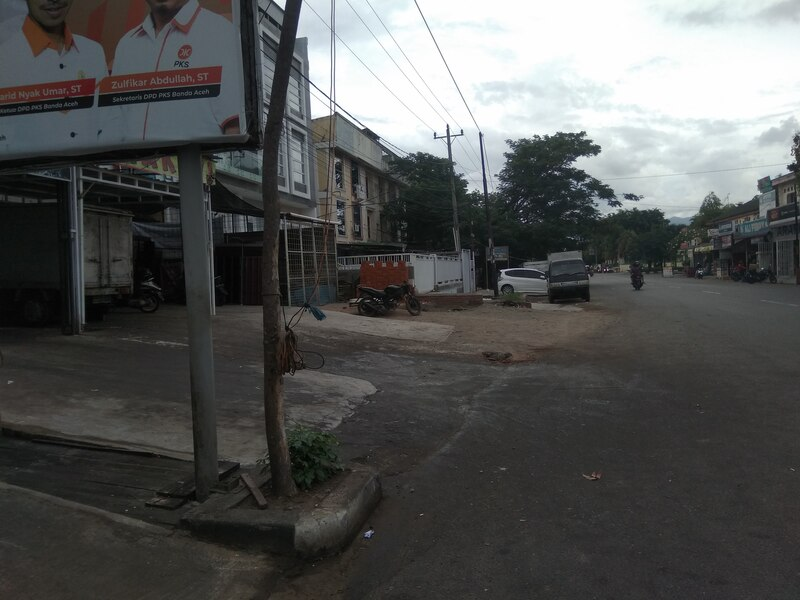becak barang: (344, 276, 426, 319)
